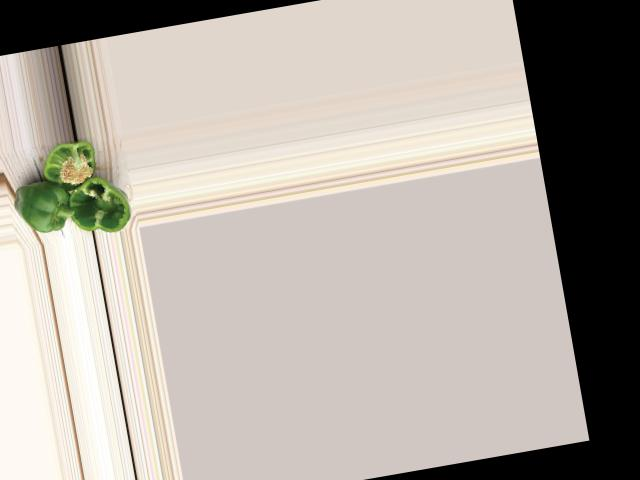bell_pepper: (35, 136, 111, 194)
